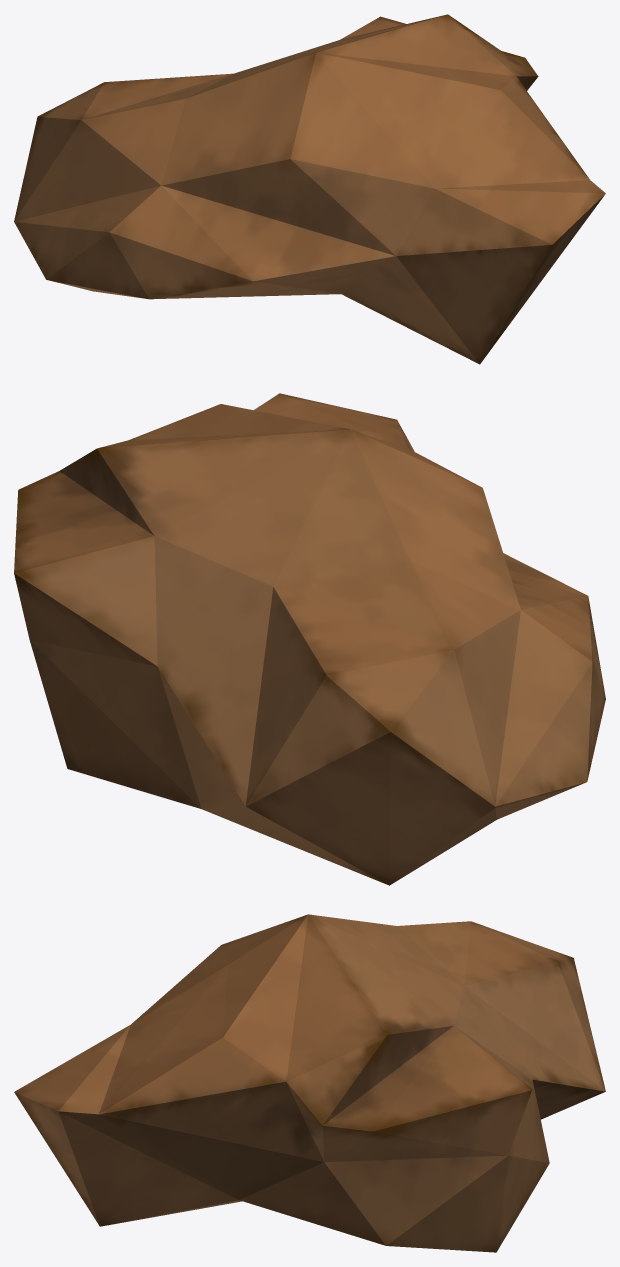
File: Coincraft_Rock_04.fbx
3 views of the same model, one above another, from view 1: azimuth 30°, elevation 25°; view 2: azimuth 150°, elevation 25°; view 3: azimuth 270°, elevation 25° (orthographic). The views are drawn at different scales.
Parts seen in each view (by area): view 1: Rock_04; view 2: Rock_04; view 3: Rock_04.
Part boxes in pixels (x1,y1,x2,y2): Rock_04: [14, 14, 605, 364]; Rock_04: [14, 393, 605, 885]; Rock_04: [14, 914, 605, 1252].
Size of the model in its own units: 36.9 by 19.55 by 37.43.
Materials: 1 (1 with a texture image).
